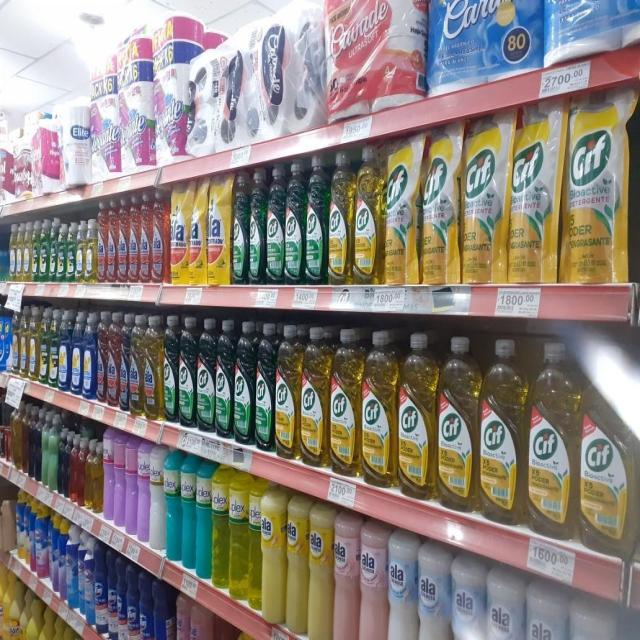ala_conc_amarillo: (144, 314, 162, 421), (129, 313, 144, 417)
ala_conc_azul: (119, 312, 129, 412)
ala_conc_rojo: (152, 188, 168, 285), (107, 311, 119, 409), (140, 190, 152, 284), (129, 192, 140, 283), (96, 310, 106, 405), (118, 196, 128, 284), (107, 198, 117, 284), (97, 199, 107, 284)
ala_crem_amarillo: (261, 480, 285, 626), (308, 500, 332, 640), (286, 492, 307, 636)
ala_crem_blanco: (417, 541, 450, 640), (388, 531, 417, 640), (452, 554, 486, 640), (487, 566, 524, 640), (526, 580, 567, 640), (568, 594, 620, 640), (150, 442, 164, 554)
ala_crem_rosado: (333, 507, 358, 640), (359, 519, 386, 640)
ala_sachet_amarillo: (208, 170, 230, 286), (170, 179, 188, 285), (190, 176, 206, 285)
cif_conc_bot_amarilla: (580, 338, 639, 554), (528, 338, 577, 538), (480, 337, 525, 525), (437, 333, 478, 512), (397, 330, 436, 500), (362, 328, 396, 488), (330, 327, 361, 477), (301, 326, 329, 468), (354, 145, 381, 284), (328, 150, 353, 286), (276, 324, 300, 460)
cif_conc_botella_verde: (305, 155, 327, 286), (234, 319, 254, 445), (285, 160, 304, 285), (256, 321, 274, 452), (215, 318, 233, 439), (266, 166, 284, 285), (178, 315, 196, 428), (197, 317, 214, 433), (249, 169, 265, 285), (232, 171, 248, 285), (163, 315, 177, 423)
cif_conc_sachet_amarillo: (564, 88, 628, 285), (510, 96, 561, 284), (462, 110, 508, 284), (421, 121, 460, 286), (383, 133, 419, 286)
heroe: (229, 467, 252, 605), (211, 462, 229, 592)
magistral_con_amarillo: (29, 306, 39, 380), (40, 307, 49, 385), (86, 218, 96, 283), (20, 306, 28, 378), (11, 305, 19, 376), (76, 220, 85, 283), (14, 222, 23, 282), (9, 223, 18, 281), (23, 221, 31, 282)
magistral_con_azul: (83, 311, 96, 400), (71, 310, 82, 396), (59, 309, 70, 392), (0, 225, 7, 282)
